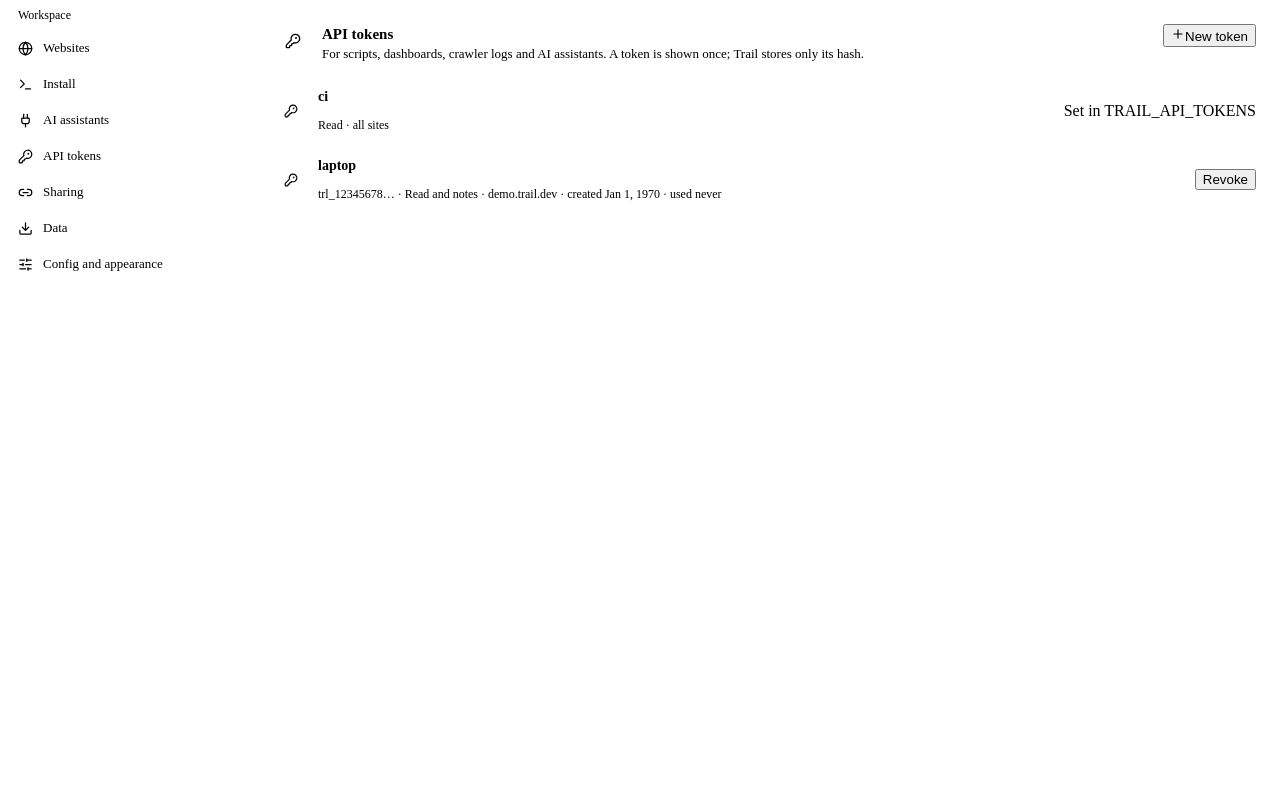
API tokens › lists tokens, marks env tokens, and shows a new token once
The width and height of the screenshot is (1280, 800).
Check: the text "Set in TRAIL_API_TOKENS" is shown, box [1064,102,1256,120]
Check: the button with aria-label "Revoke laptop" is shown, box [1195,169,1256,190]
Click the button "New token".
click(1210, 36)  # box [1163,24,1256,47]
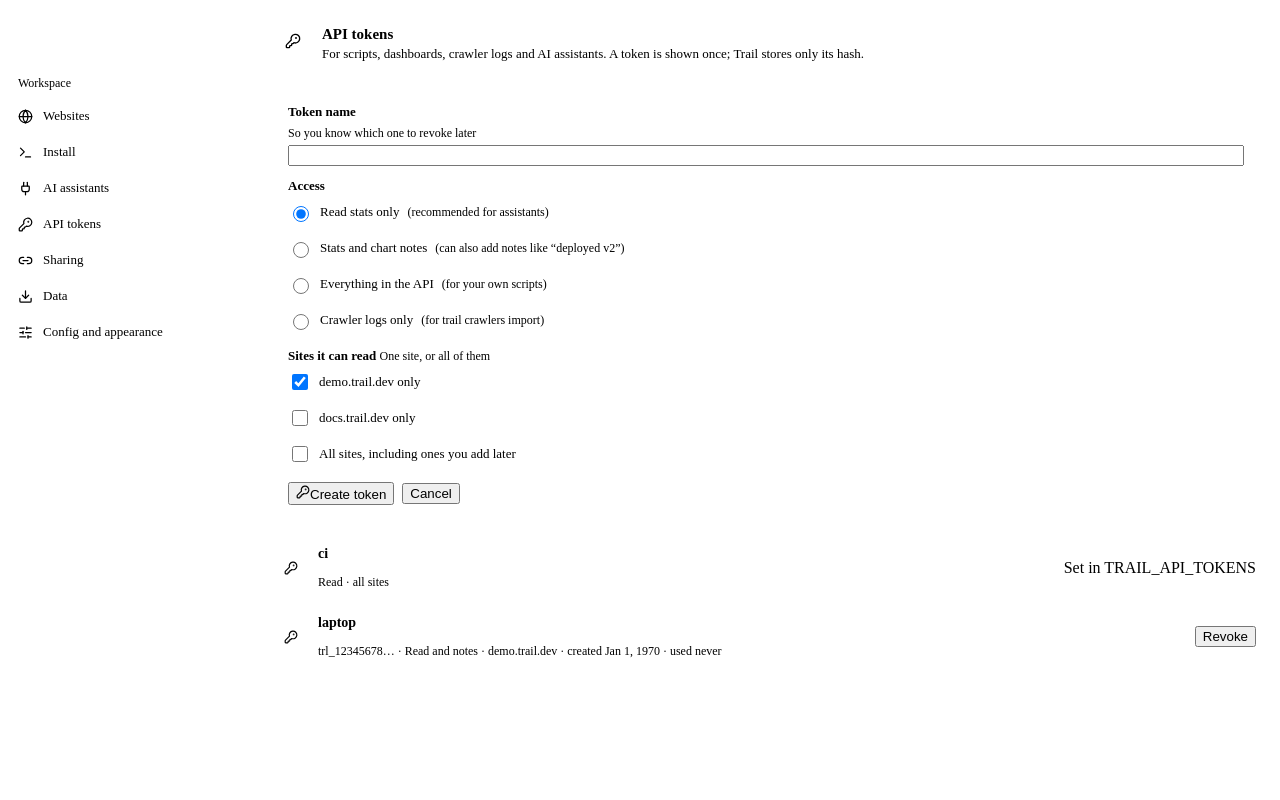
Type "crawler" into the field labelled "Token name".
click(766, 156); type("crawler")  # box [288,145,1244,166]
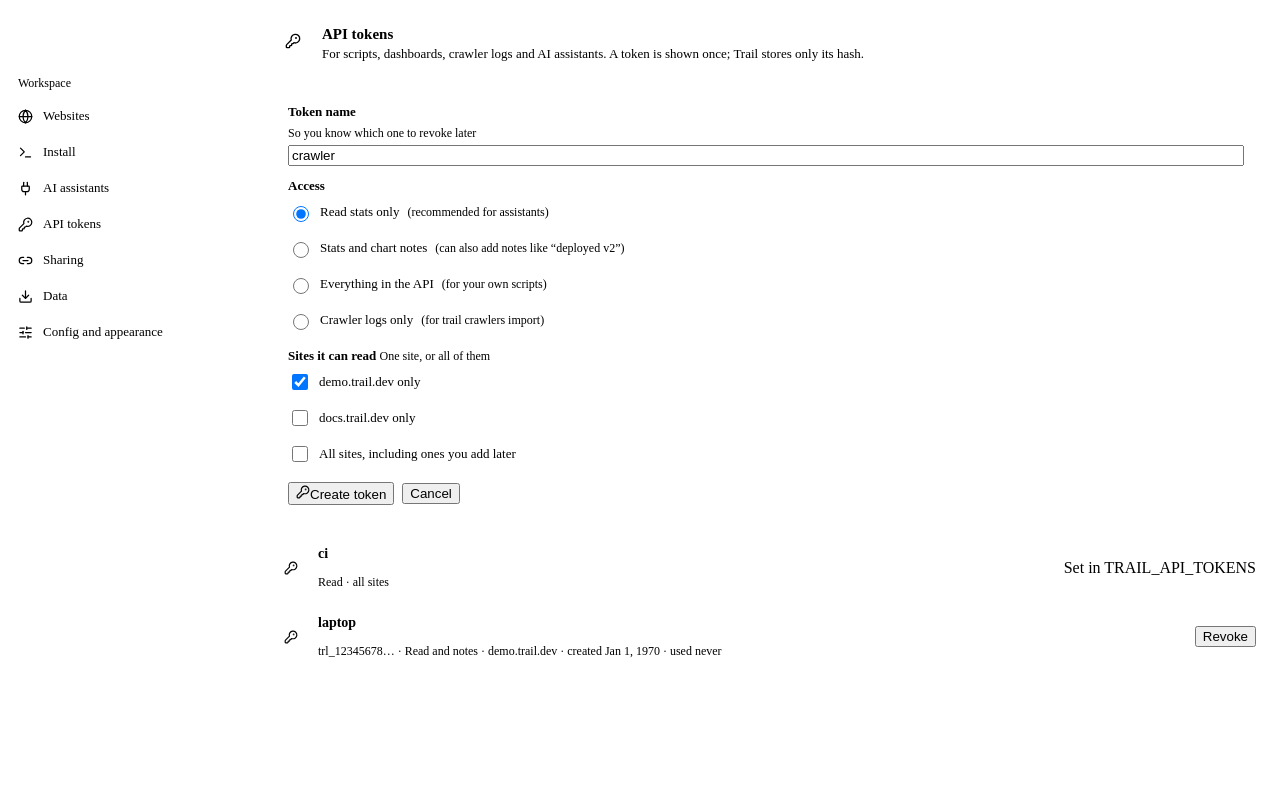
Click the radio button labelled "Crawler logs only (for trail crawlers import)".
click(301, 322)  # box [293,314,309,330]
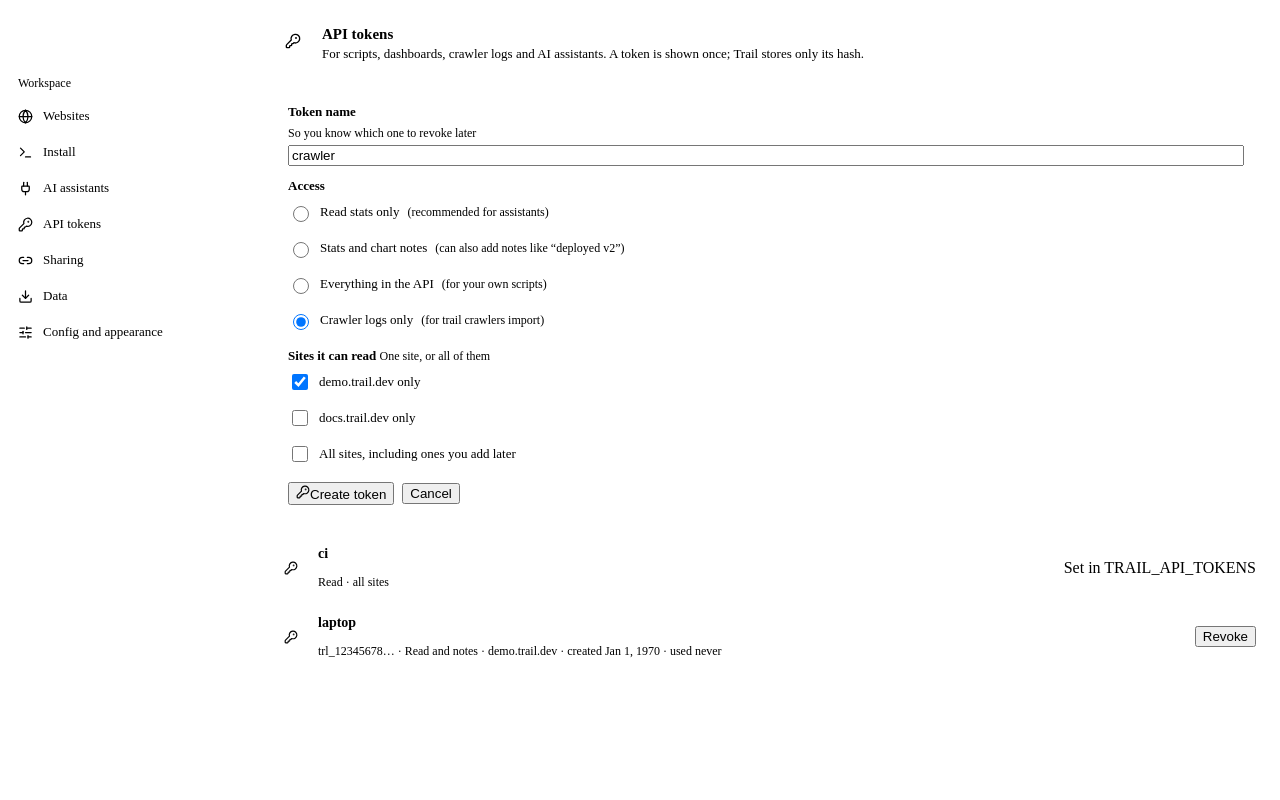
Click the button "Create token".
click(341, 494)  # box [288,482,394,505]
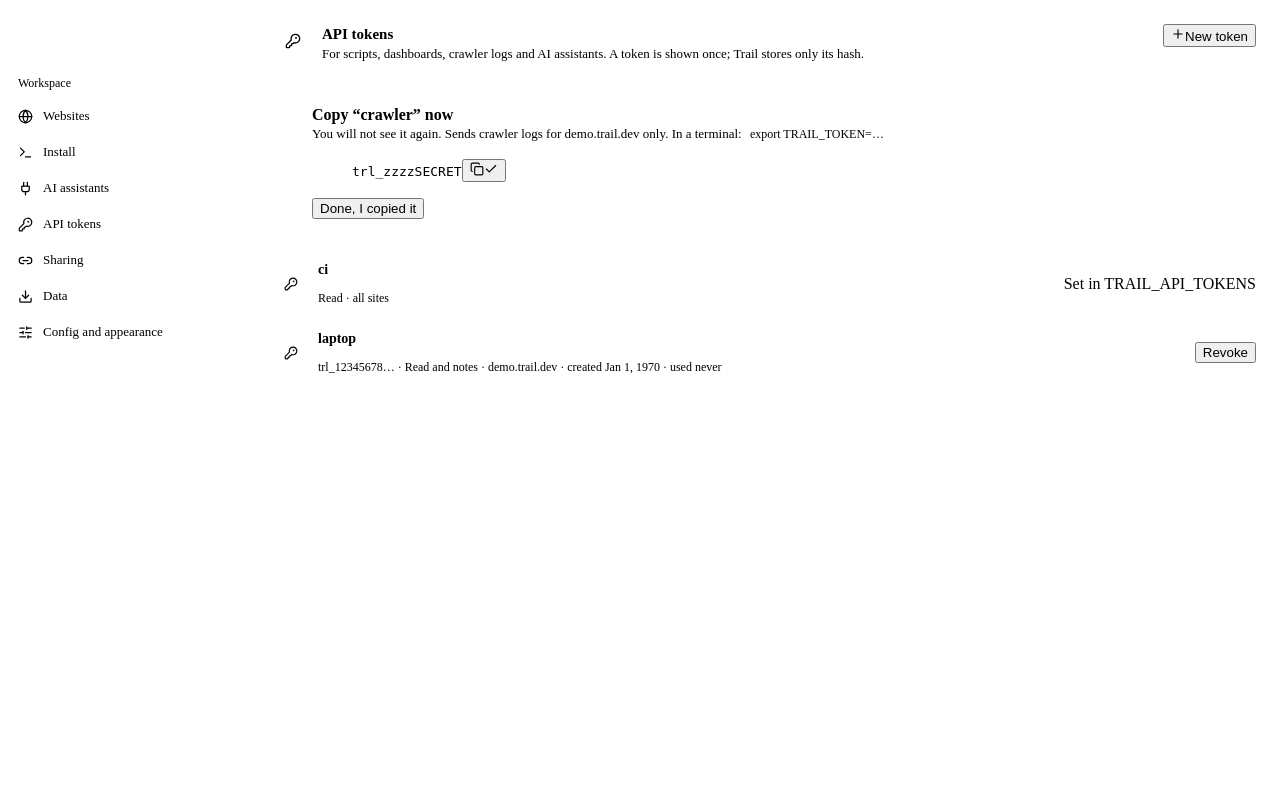
Check: the text "trl_zzzzSECRET" is shown, box [352,164,462,179]
Click the button "Done, I copied it".
click(368, 209)  # box [312,198,424,219]
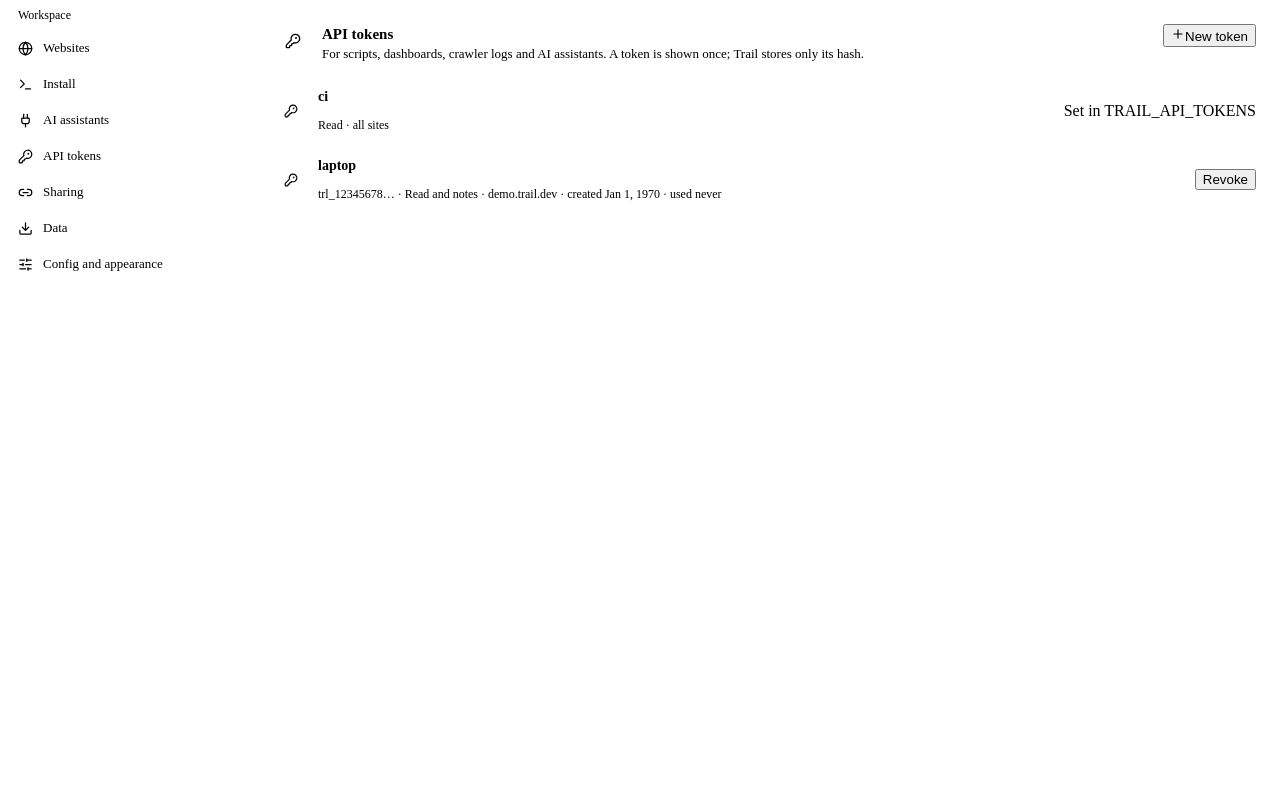
Check: the text "trl_zzzzSECRET" is gone
